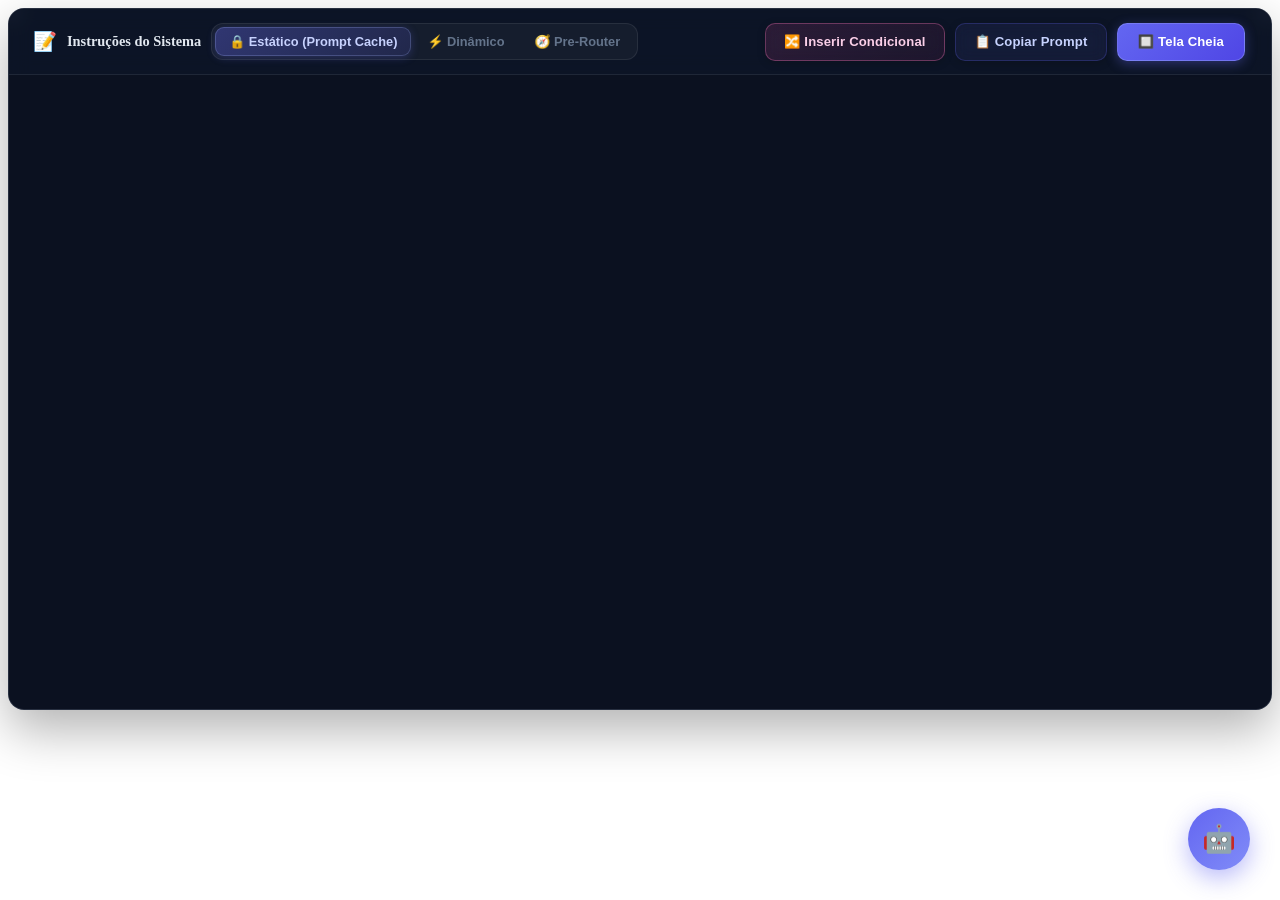
Test case: PromptEditor - Nova Arquitetura com Consultor › deve sair do modo tela cheia e restaurar a bolinha do assistente ao pressionar Escape
Click the button "🔲 Tela Cheia": (1181, 42) 1117,23 -> 1245,61
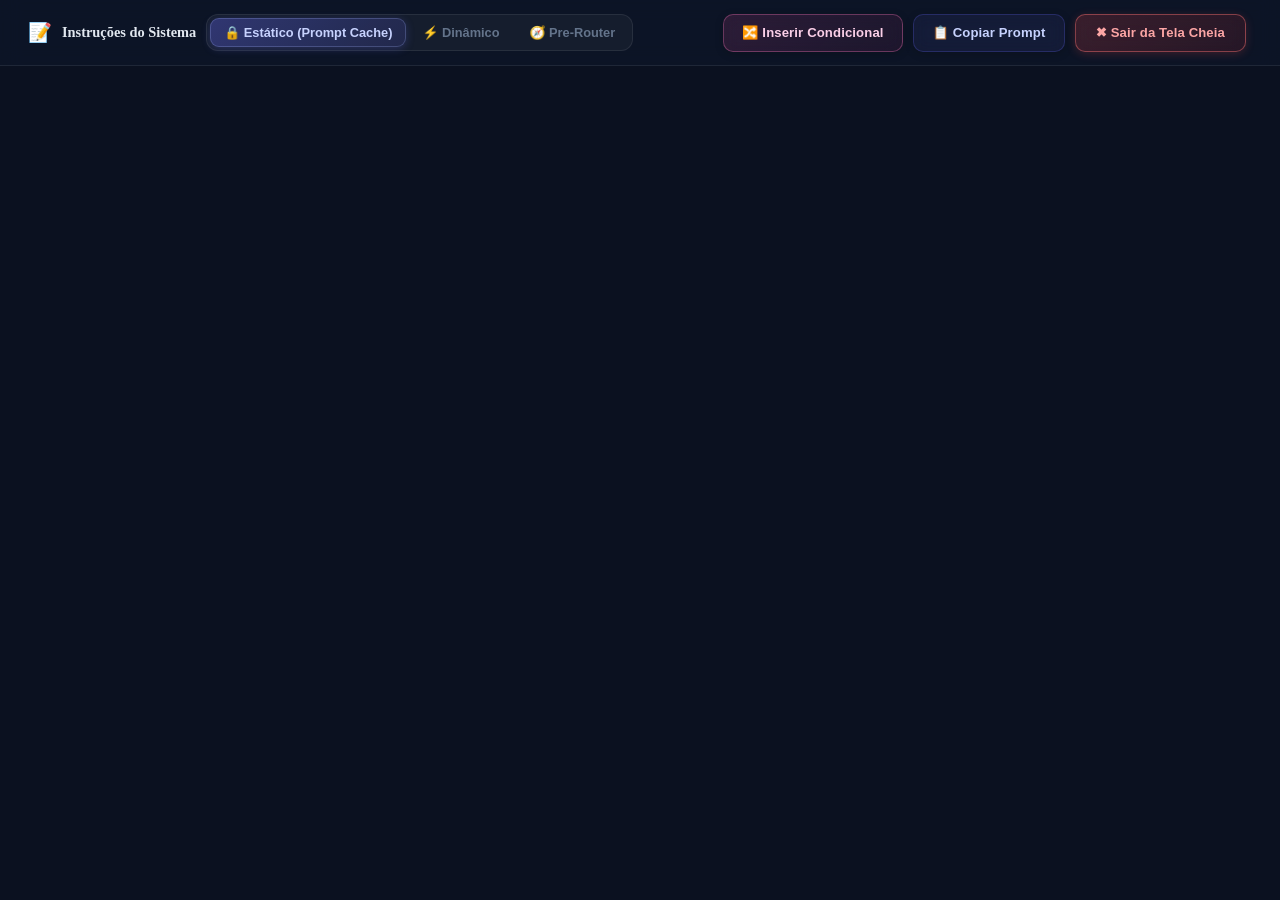
expect the button "✖ Sair da Tela Cheia" is shown: met, box 1075,14 -> 1246,52
expect the button "🤖" is gone: met
Pressiona ESC para sair da tela cheia
Press Escape
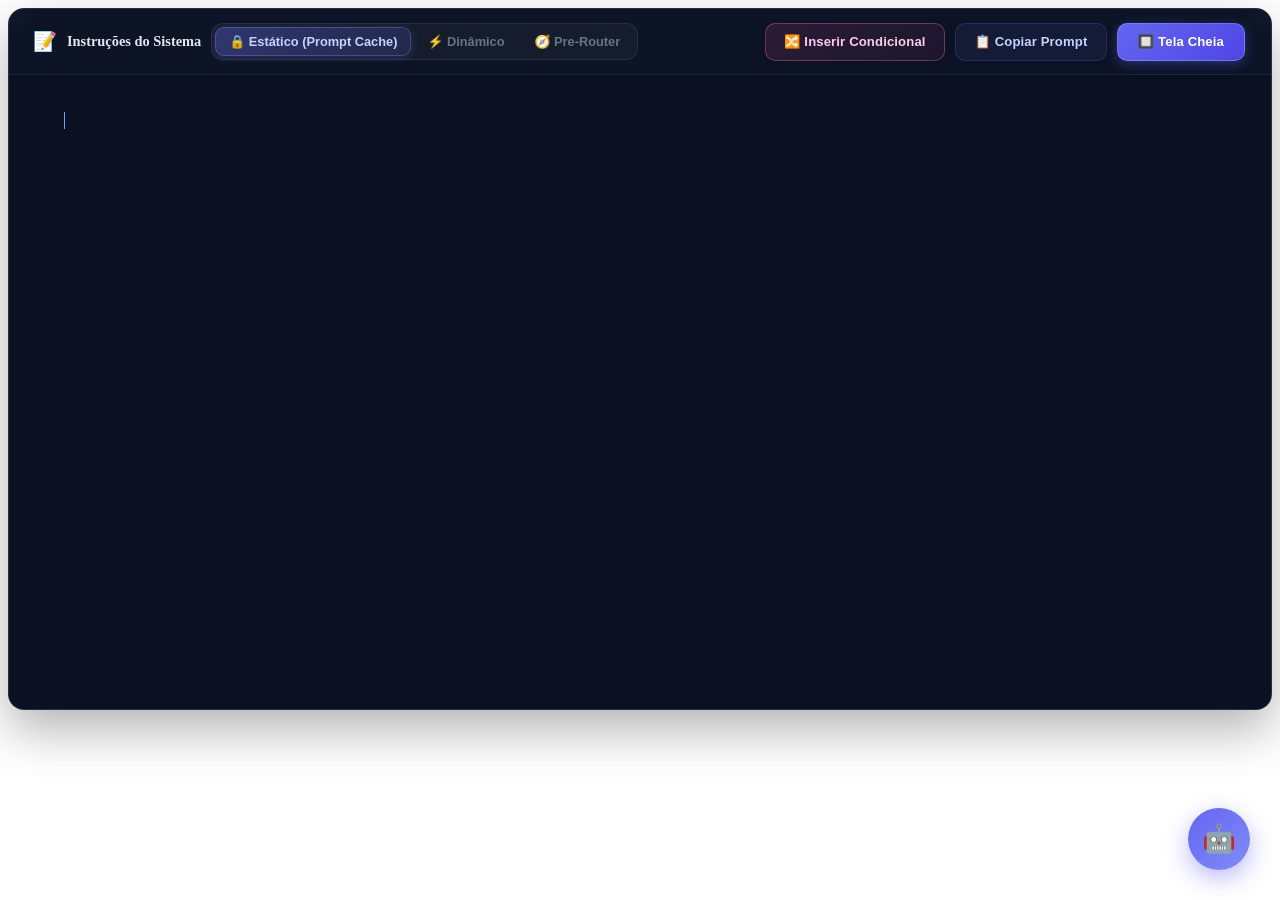
expect the button "🔲 Tela Cheia" is shown: met, box 1117,23 -> 1245,61
expect the button "🤖" is shown: met, box 1188,808 -> 1250,870
